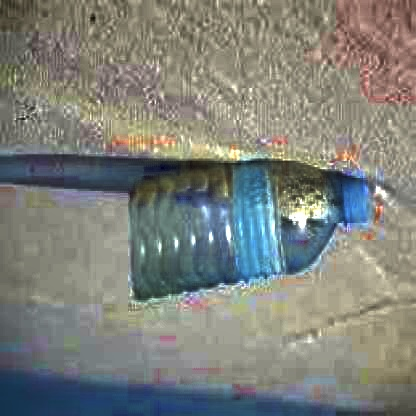pbottle: (116, 150, 374, 311)
